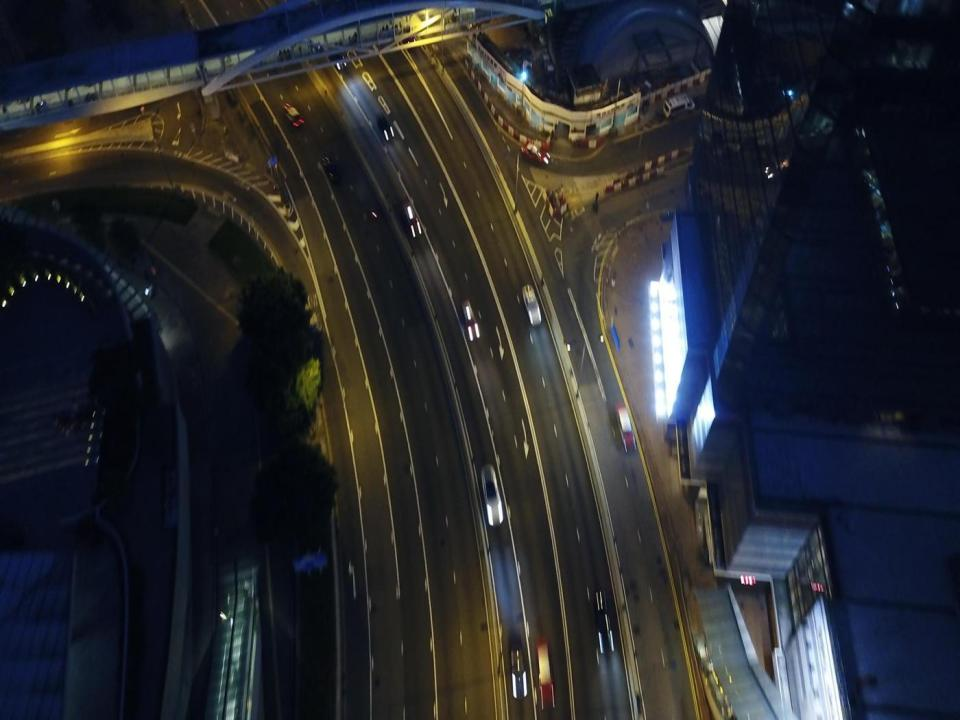car: (534, 637, 556, 709), (480, 463, 503, 527), (594, 591, 614, 654), (509, 638, 527, 699), (615, 401, 636, 452), (522, 283, 542, 326), (400, 200, 422, 239), (461, 299, 480, 341), (520, 142, 550, 166), (326, 40, 346, 72), (321, 155, 341, 184), (282, 103, 304, 128), (376, 113, 394, 140)
van: (662, 94, 696, 119)
